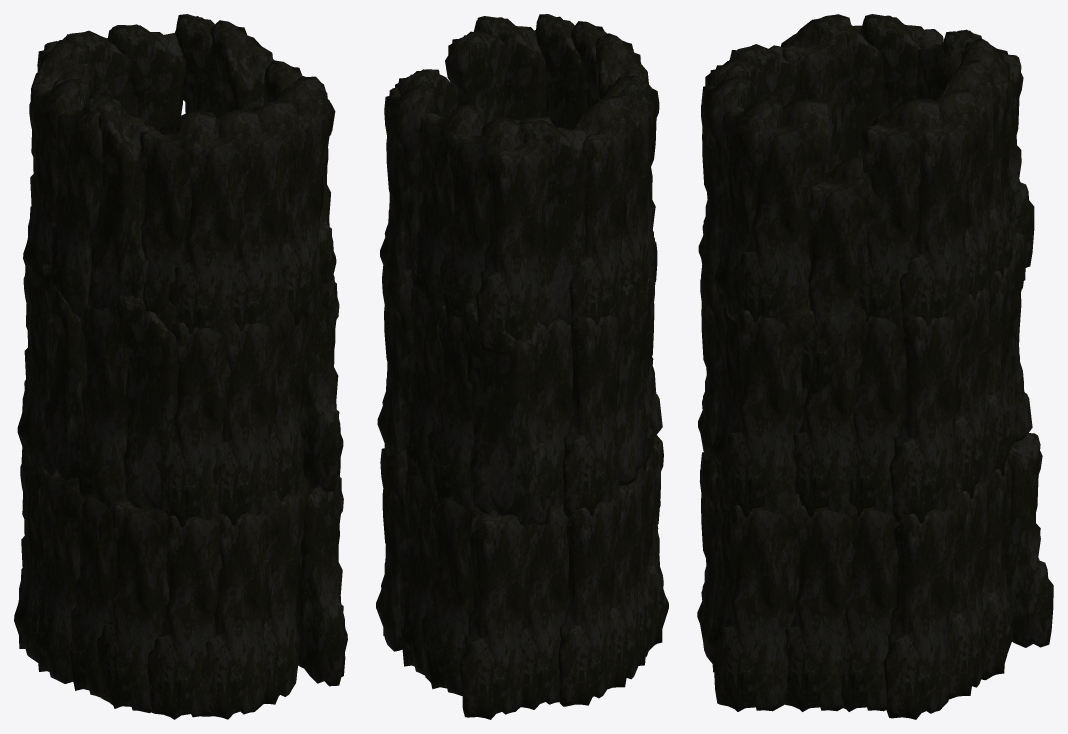
Rendered from RocksElevator.gltf.
3 renders of one model, left to right at view 1: azimuth 30°, elevation 25°; view 2: azimuth 150°, elevation 25°; view 3: azimuth 270°, elevation 25°, orthographic. The views are drawn at different scales.
Parts seen in each view (by area): view 1: Rock5A (24), Rock5A (23), Rock5A (29), Rock5A (26), Rock5A (22), Rock5A (21), Rock5A (25), Rock5A (28), Rock5A (30), Rock5A (27), Rock5A (33), Rock5A (31) (+18 smaller); view 2: Rock5A (43), Rock5A (42), Rock5A (44), Rock5A (36), Rock5A (38), Rock5A (37), Rock5A, Rock5A (2), Rock5A (39), Rock5A (41), Rock5A (6), Rock5A (3) (+20 smaller); view 3: Rock5A (17), Rock5A (15), Rock5A (16), Rock5A (8), Rock5A (6), Rock5A (7), Rock5A (13), Rock5A (9), Rock5A (14), Rock5A (12), Rock5A (11), Rock5A (10) (+21 smaller).
Boxes of the visible parts, left/top/right/bottom form: Rock5A (24): left=169, top=109, right=262, bottom=336; Rock5A (23): left=201, top=490, right=284, bottom=719; Rock5A (29): left=97, top=502, right=168, bottom=713; Rock5A (26): left=147, top=513, right=226, bottom=719; Rock5A (22): left=212, top=294, right=291, bottom=525; Rock5A (21): left=231, top=99, right=301, bottom=331; Rock5A (25): left=156, top=318, right=235, bottom=527; Rock5A (28): left=116, top=295, right=178, bottom=508; Rock5A (30): left=84, top=94, right=155, bottom=313; Rock5A (27): left=139, top=111, right=219, bottom=331; Rock5A (33): left=49, top=95, right=122, bottom=317; Rock5A (31): left=76, top=303, right=129, bottom=502; Rock5A (43): left=459, top=300, right=552, bottom=526; Rock5A (42): left=476, top=115, right=554, bottom=352; Rock5A (44): left=459, top=509, right=534, bottom=719; Rock5A (36): left=569, top=95, right=637, bottom=339; Rock5A (38): left=558, top=479, right=626, bottom=706; Rock5A (37): left=562, top=303, right=625, bottom=517; Rock5A: left=440, top=117, right=521, bottom=318; Rock5A (2): left=421, top=490, right=476, bottom=695; Rock5A (39): left=519, top=119, right=589, bottom=326; Rock5A (41): left=520, top=504, right=570, bottom=709; Rock5A (6): left=380, top=85, right=436, bottom=287; Rock5A (3): left=414, top=104, right=487, bottom=311; Rock5A (17): left=712, top=493, right=804, bottom=711; Rock5A (15): left=733, top=98, right=833, bottom=326; Rock5A (16): left=720, top=299, right=812, bottom=517; Rock5A (8): left=883, top=480, right=967, bottom=719; Rock5A (6): left=899, top=89, right=983, bottom=337; Rock5A (7): left=890, top=289, right=973, bottom=523; Rock5A (13): left=784, top=502, right=858, bottom=711; Rock5A (9): left=859, top=98, right=943, bottom=326; Rock5A (14): left=801, top=155, right=880, bottom=393; Rock5A (12): left=793, top=306, right=866, bottom=517; Rock5A (11): left=841, top=507, right=899, bottom=711; Rock5A (10): left=849, top=316, right=906, bottom=517.
Size of the model in its own units: 42.77 by 96.95 by 52.15.
1 material, 1 textured.
